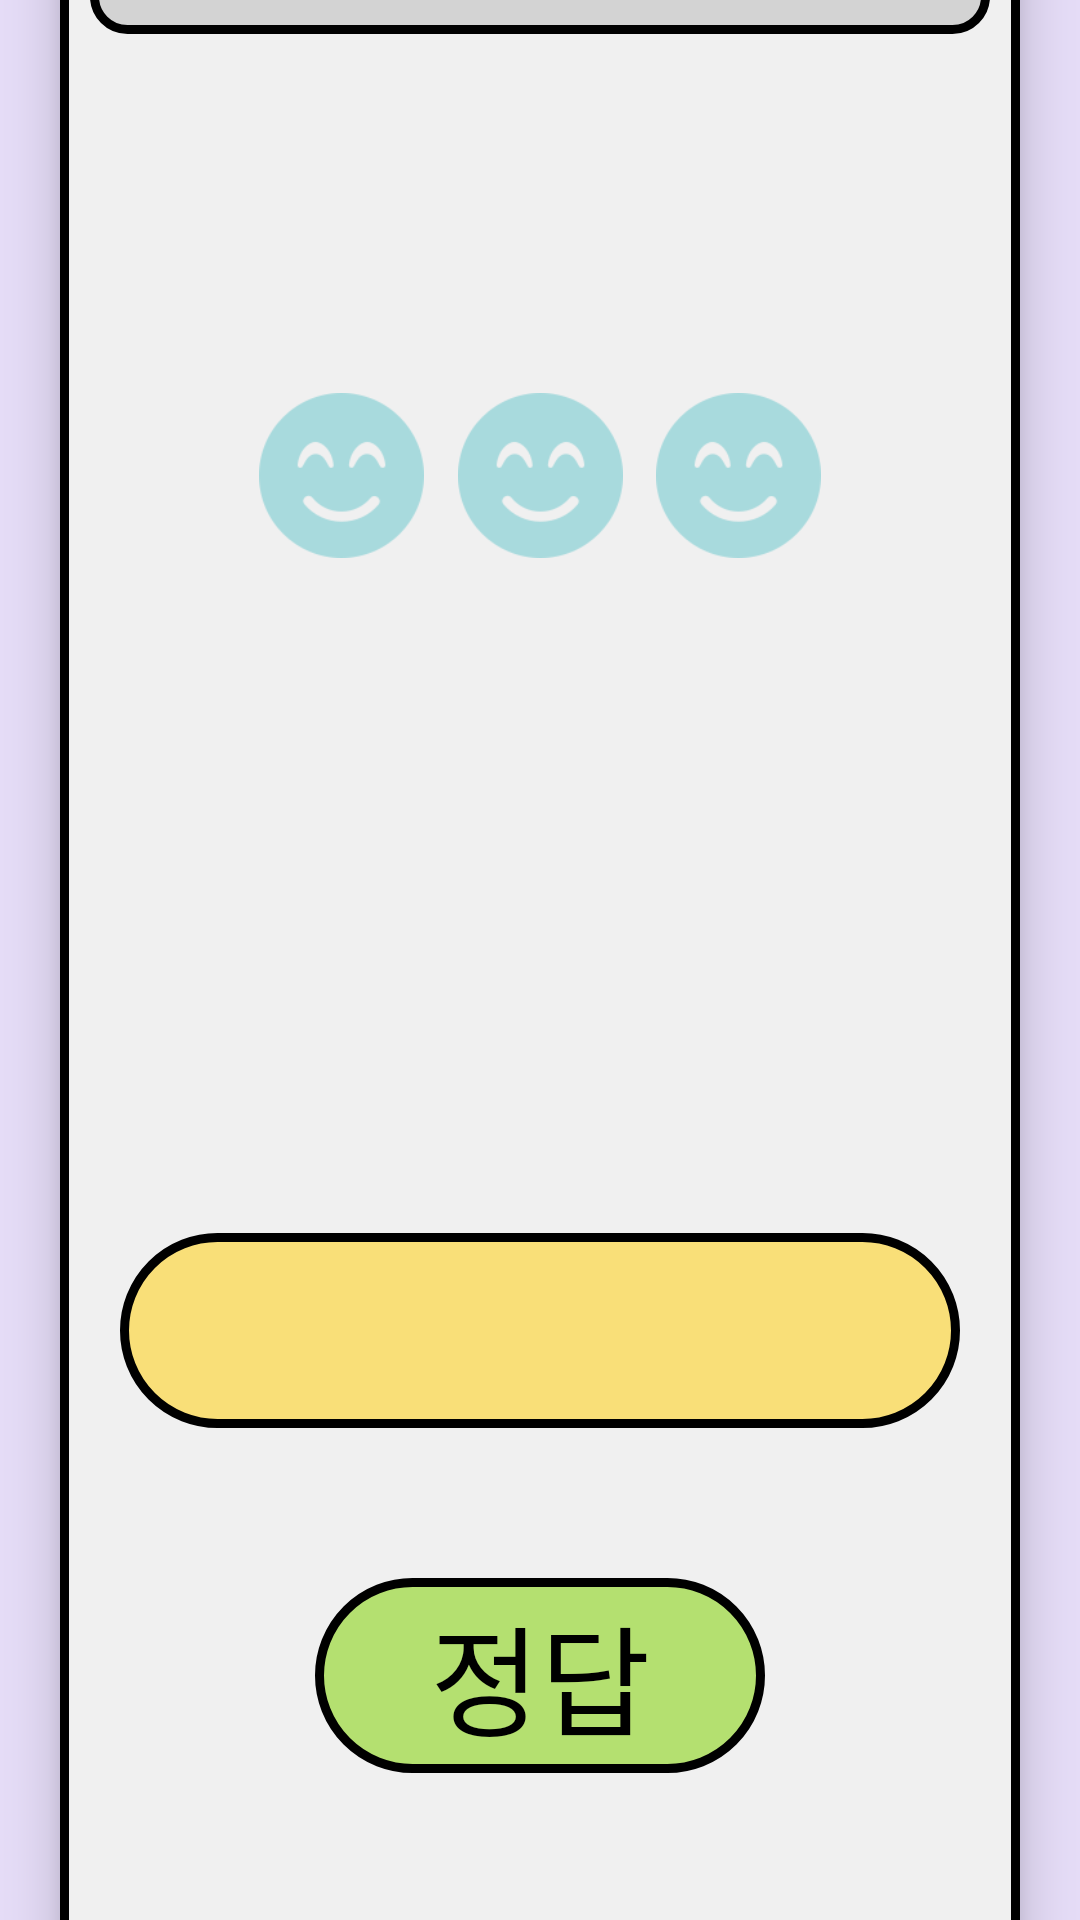

Screen size 1080×1920. Icon name, then its box in pixels as BBox(x1, y1, x2, y2):
life yes: BBox(259, 393, 424, 558), BBox(458, 393, 623, 558), BBox(656, 393, 821, 558)
